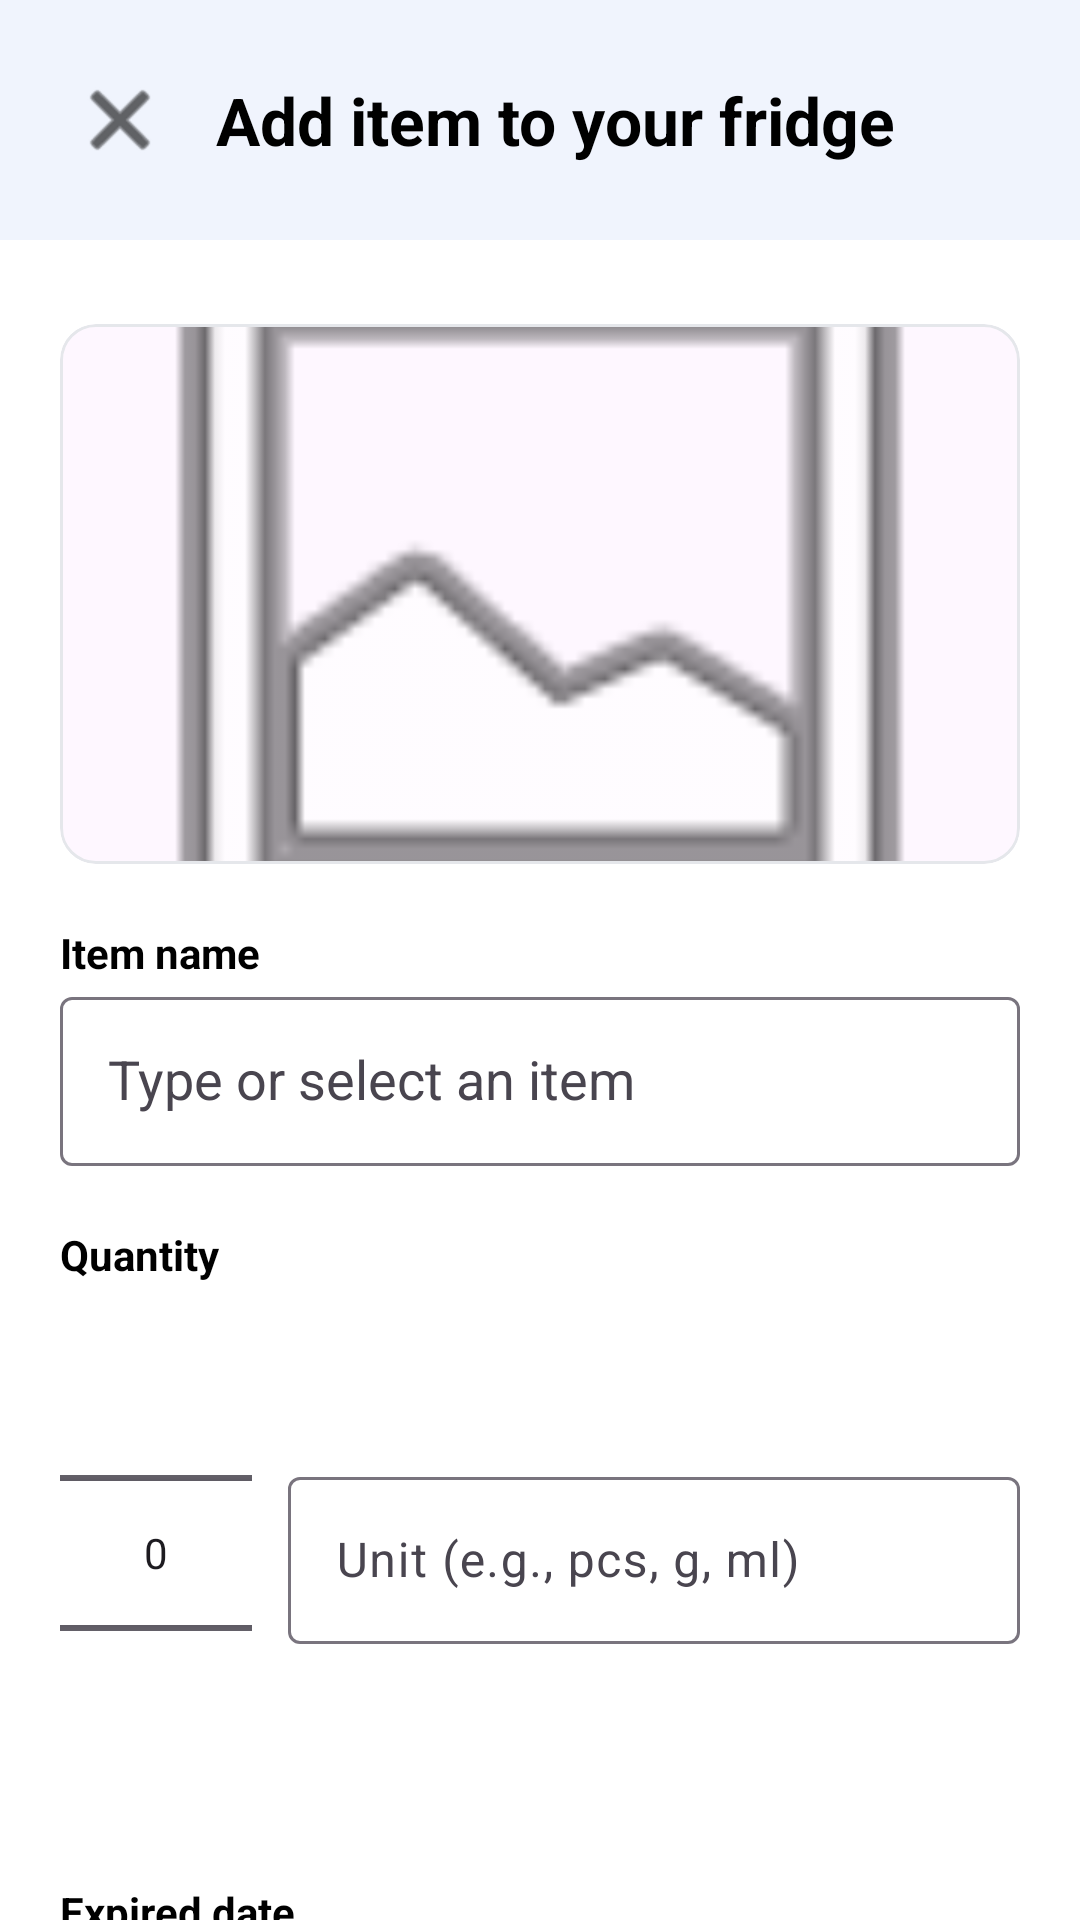

Icon bounding boxes for this 1080*1920 phone screenshot, format (x1, y1, x2, y2):
Close: (90, 90, 150, 150)
